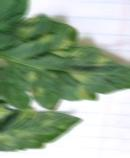Tomato mold leaf: (0, 8, 130, 108), (0, 103, 83, 151)
